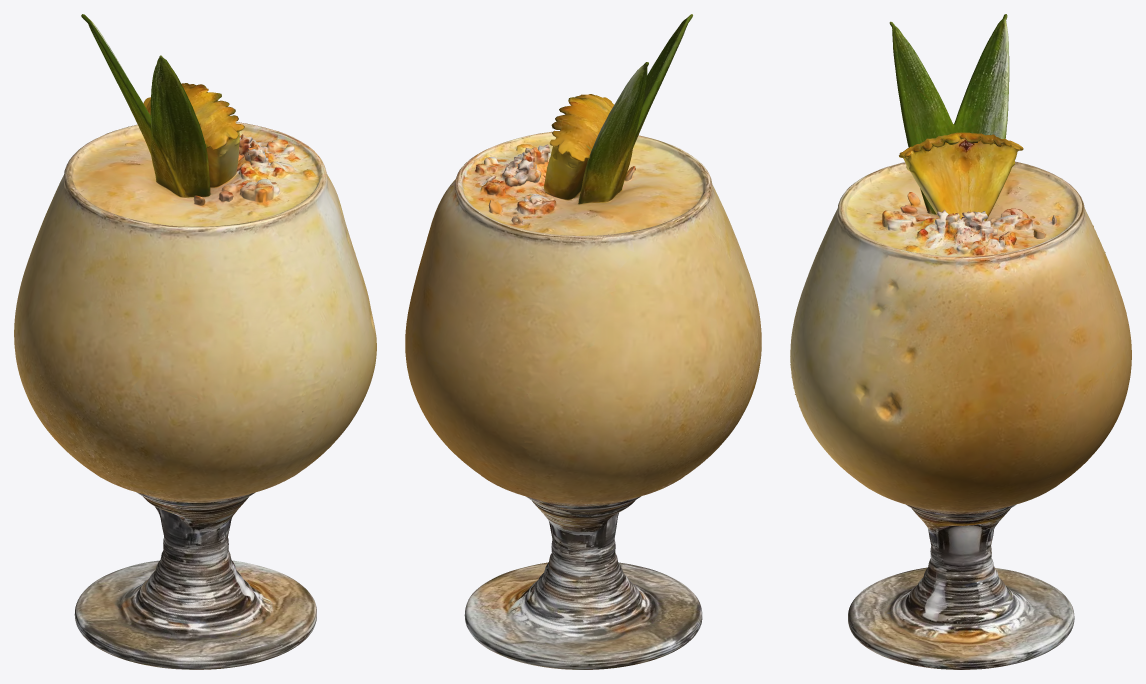
The model's file is modelo-10.glb.
3 views of the same model, side by side, from view 1: azimuth 30°, elevation 25°; view 2: azimuth 150°, elevation 25°; view 3: azimuth 270°, elevation 25° (orthographic). The views are drawn at different scales.
Parts seen in each view (by area): view 1: tripo_node_02b4cb2d-23bd-4774-9fb6-e23f033190a3; view 2: tripo_node_02b4cb2d-23bd-4774-9fb6-e23f033190a3; view 3: tripo_node_02b4cb2d-23bd-4774-9fb6-e23f033190a3.
Part boxes in pixels (<box>): tripo_node_02b4cb2d-23bd-4774-9fb6-e23f033190a3: <box>14,14,376,669</box>; tripo_node_02b4cb2d-23bd-4774-9fb6-e23f033190a3: <box>405,14,761,669</box>; tripo_node_02b4cb2d-23bd-4774-9fb6-e23f033190a3: <box>790,14,1131,669</box>.
Size of the model in its own units: 0.5291 by 0.9793 by 0.5324.
Materials: 1 (1 with a texture image).
